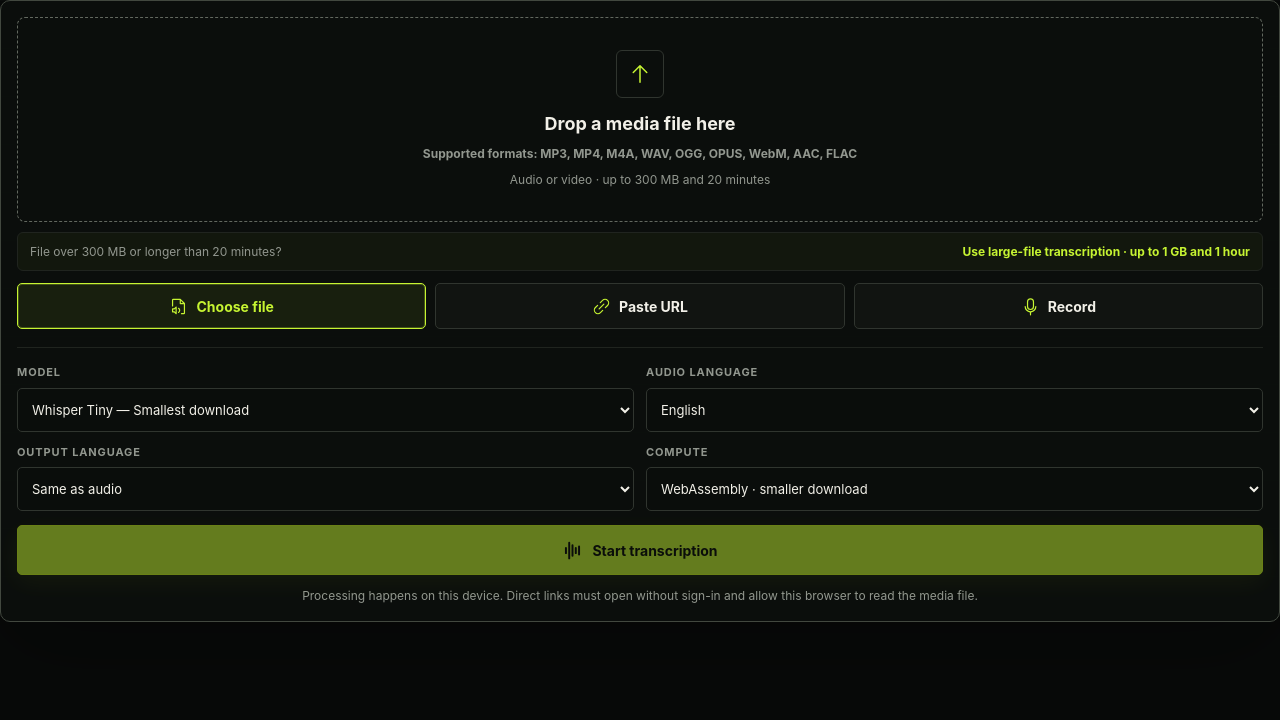
TranscriptionWorkspace › 移动端切换输入方式后自动定位操作区
Click the button "Paste URL" at (640, 306), box [435,283,845,329]
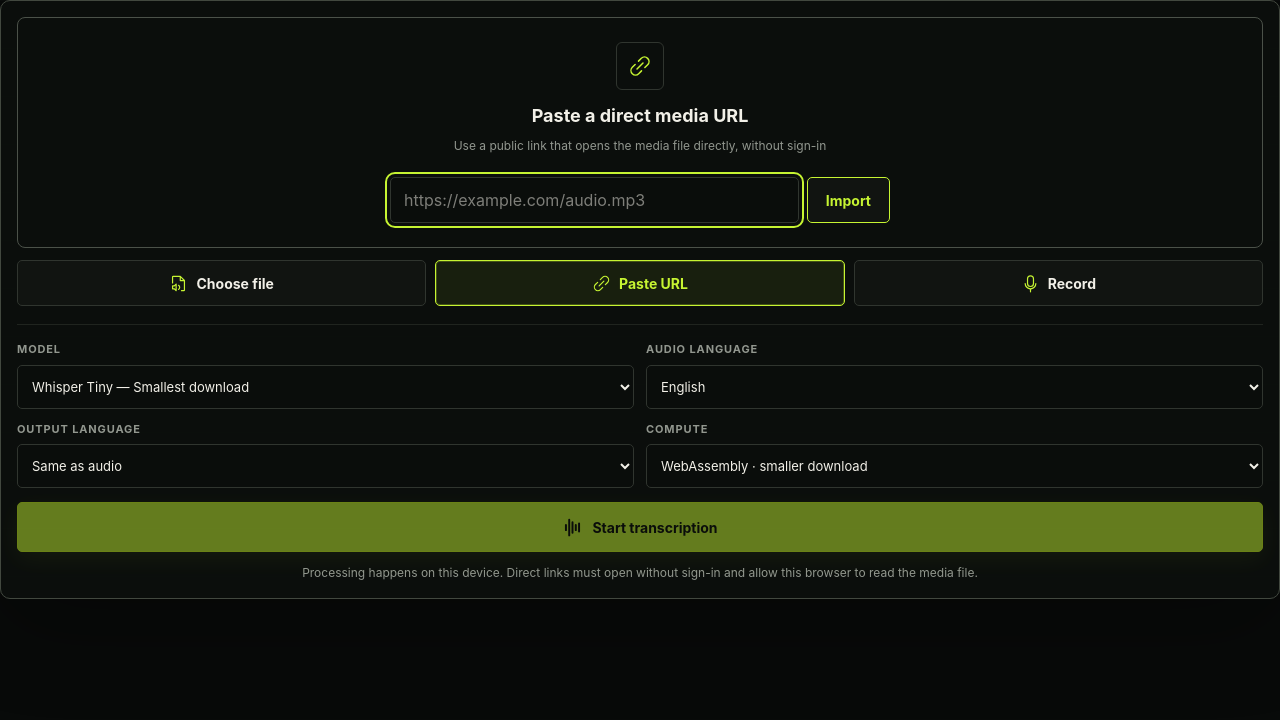
Expected: the field named "Paste a direct media URL" is shown, [390,177,799,223]
